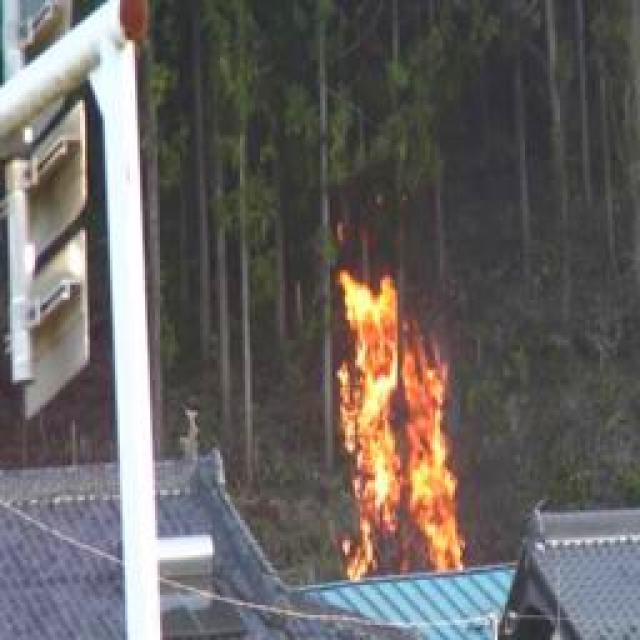Fire: (319, 271, 464, 588)
